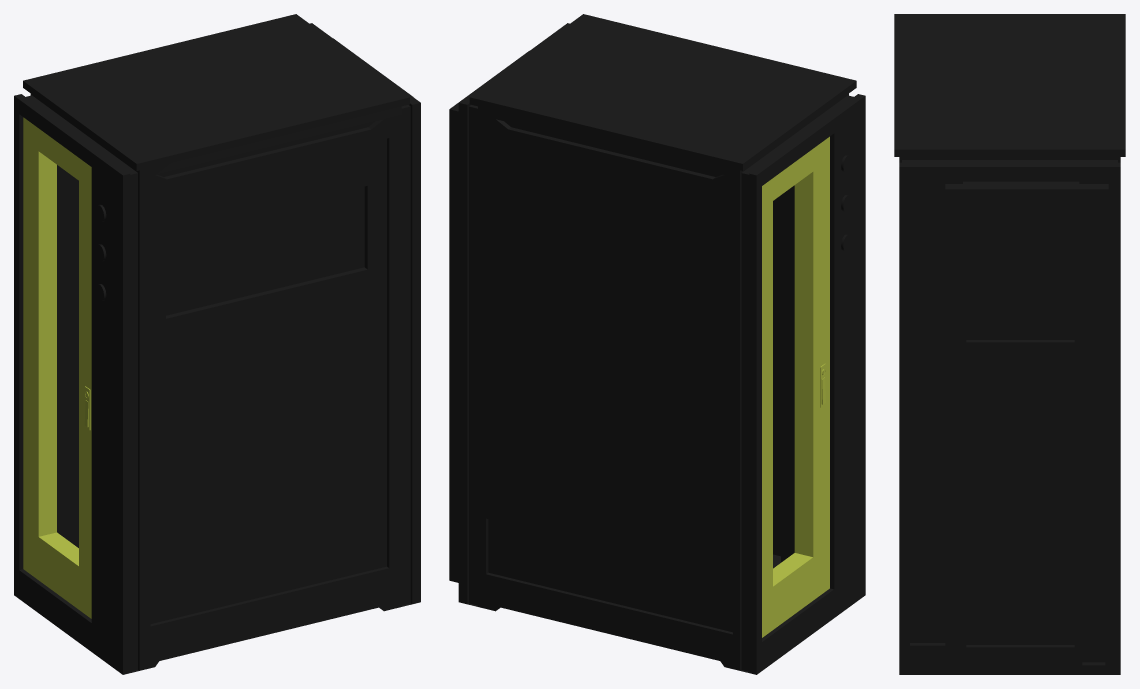
Rendered from OBJ_SeverRack.fbx.
3 views of the same model, side by side, from view 1: azimuth 30°, elevation 25°; view 2: azimuth 150°, elevation 25°; view 3: azimuth 270°, elevation 25° (orthographic).
Visible parts, largest first — view 1: OBJ_ServerRack_Good, OBJ_ServerRack_Door; view 2: OBJ_ServerRack_Good, OBJ_ServerRack_Door; view 3: OBJ_ServerRack_Good.
Boxes of the visible parts, x1=… form: OBJ_ServerRack_Good: x1=14, y1=14, x2=420, y2=674; OBJ_ServerRack_Door: x1=23, y1=117, x2=91, y2=618; OBJ_ServerRack_Good: x1=449, y1=14, x2=865, y2=674; OBJ_ServerRack_Door: x1=762, y1=136, x2=829, y2=637; OBJ_ServerRack_Good: x1=894, y1=14, x2=1125, y2=674.
Bounding box in the file's own units: 165 × 255 × 103.
